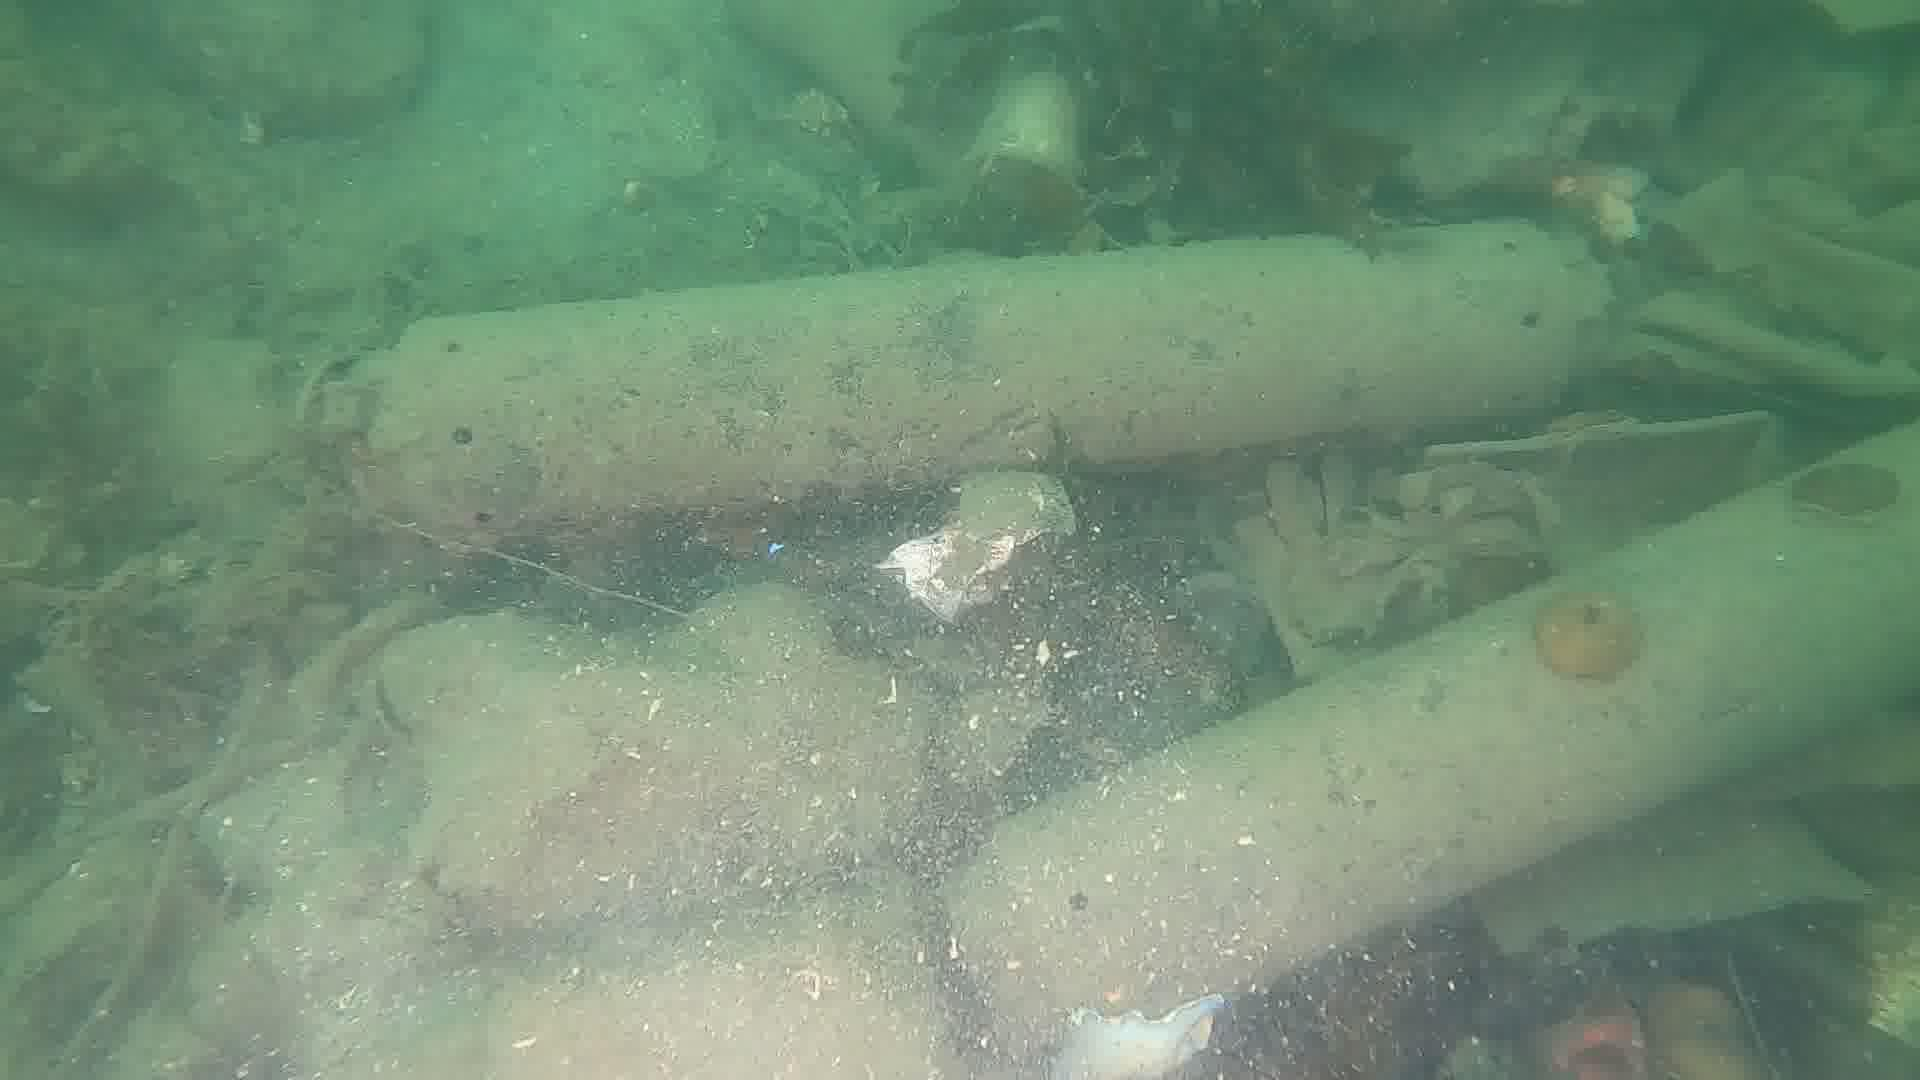eel fish trap: (944, 411, 1920, 1072), (352, 216, 1581, 542)
